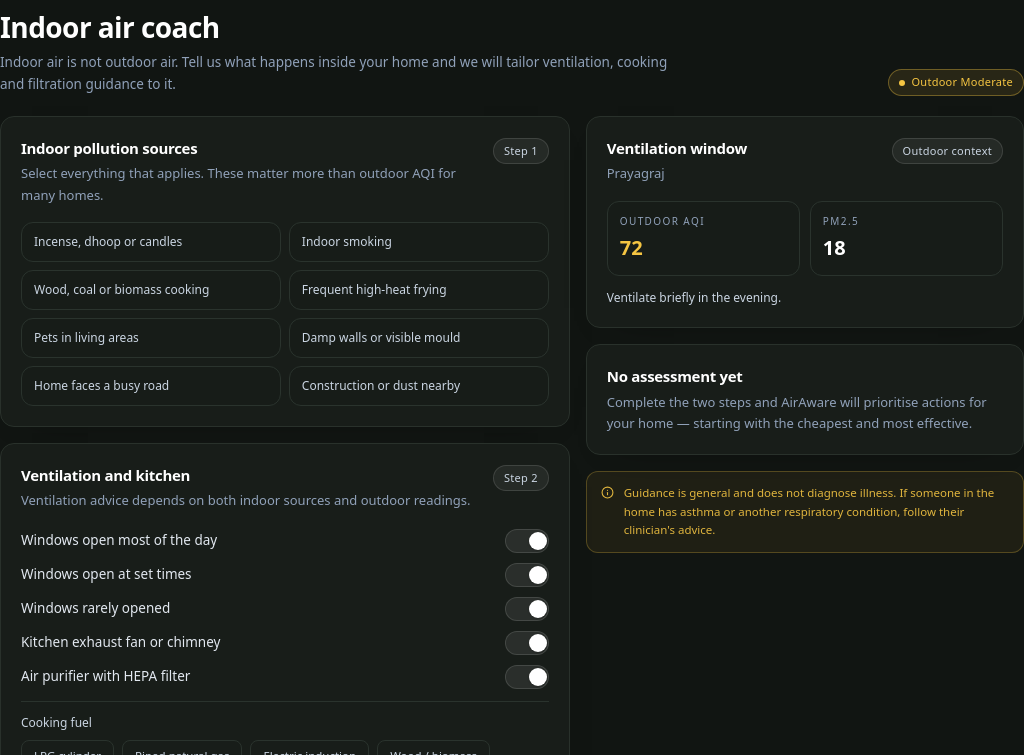
Test: IndoorAir interactions › builds an indoor plan from selected sources, ventilation and cooking fuel
Expected: the text "Outdoor Moderate" is shown, [888,70,1023,96]
What coordinates should you click on to do the following:
click the button "Incense, dhoop or candles"
I would click on:
 (151, 242)
Its box is [21,222,281,262].
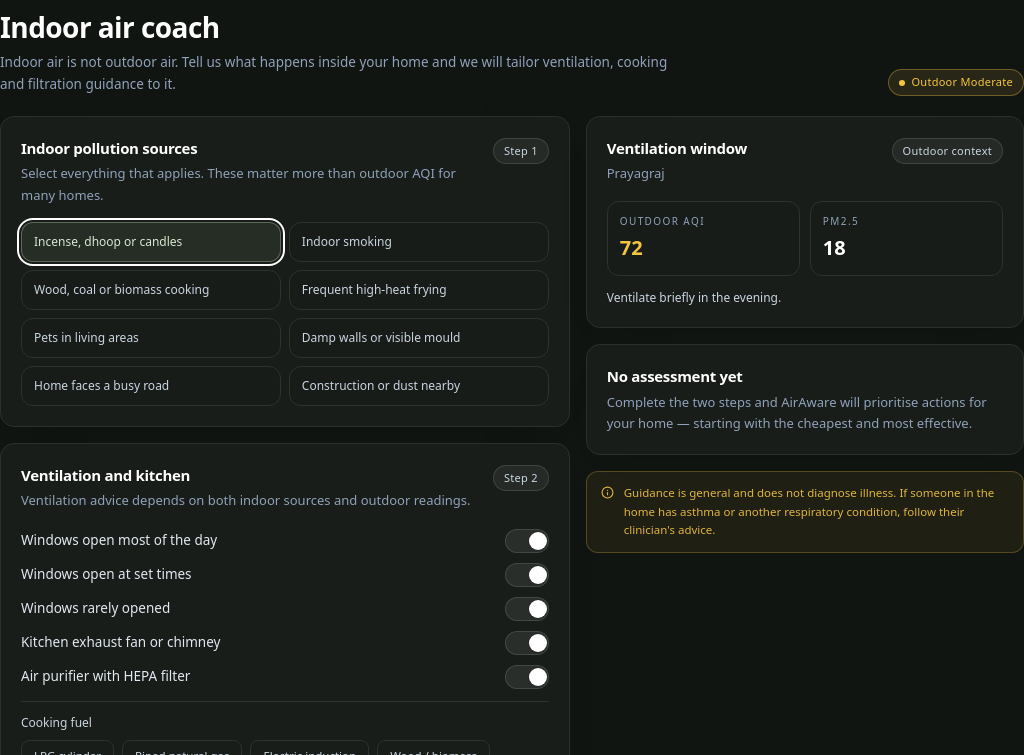
What coordinates should you click on to do the following:
click the switch named "Windows open most of the day" in the row of "Windows open most of the day"
I would click on:
 (527, 541)
Its box is [505,529,549,553].
(page scrolled)
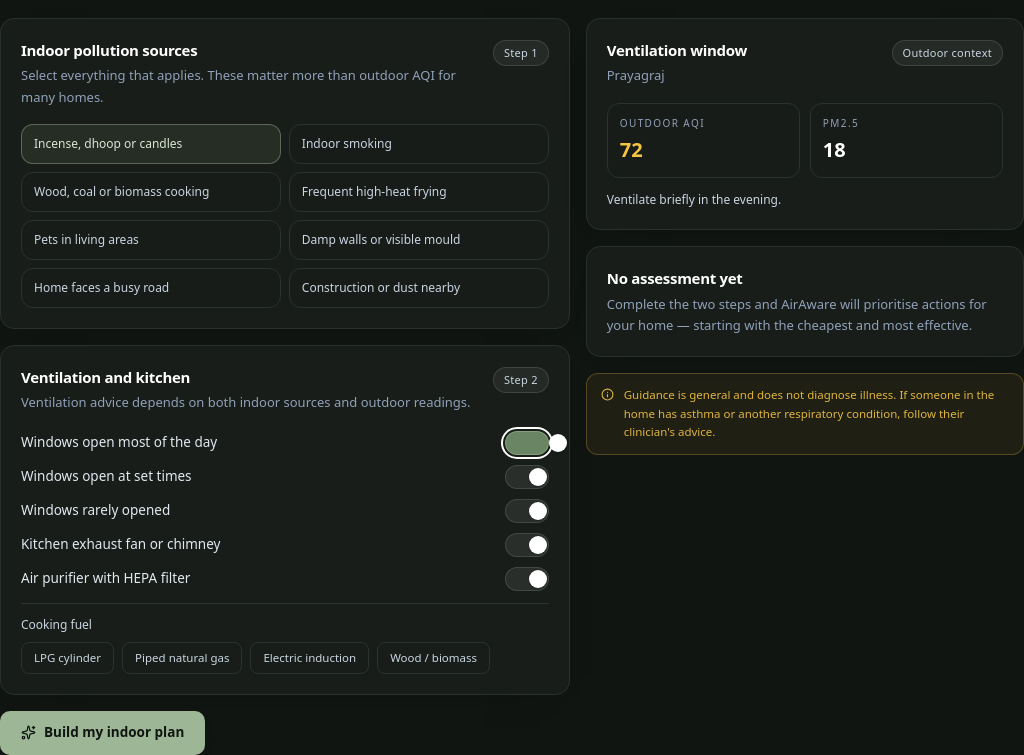
Now the switch named "Windows open most of the day" in the row of "Windows open most of the day" is checked, box [505,431,549,455]
What coordinates should you click on to do the following:
click the button "LPG cylinder"
I would click on:
 (68, 658)
Its box is [21,642,114,674].
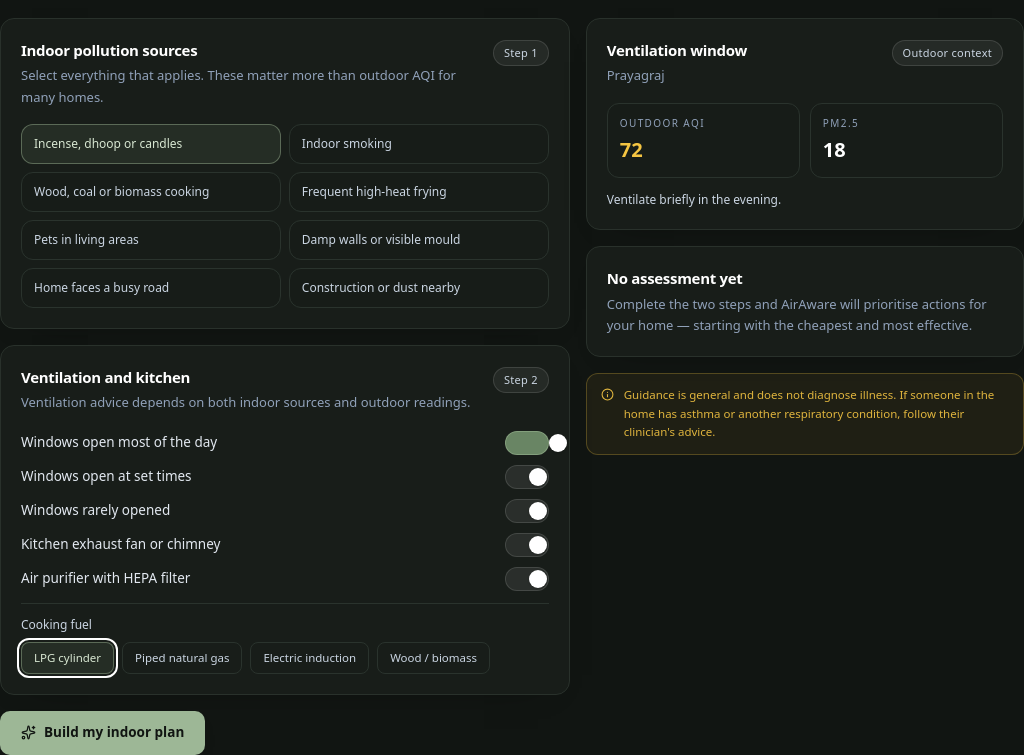
What coordinates should you click on to do the following:
click the button "Build my indoor plan"
I would click on:
 (103, 733)
Its box is [0,711,205,754].
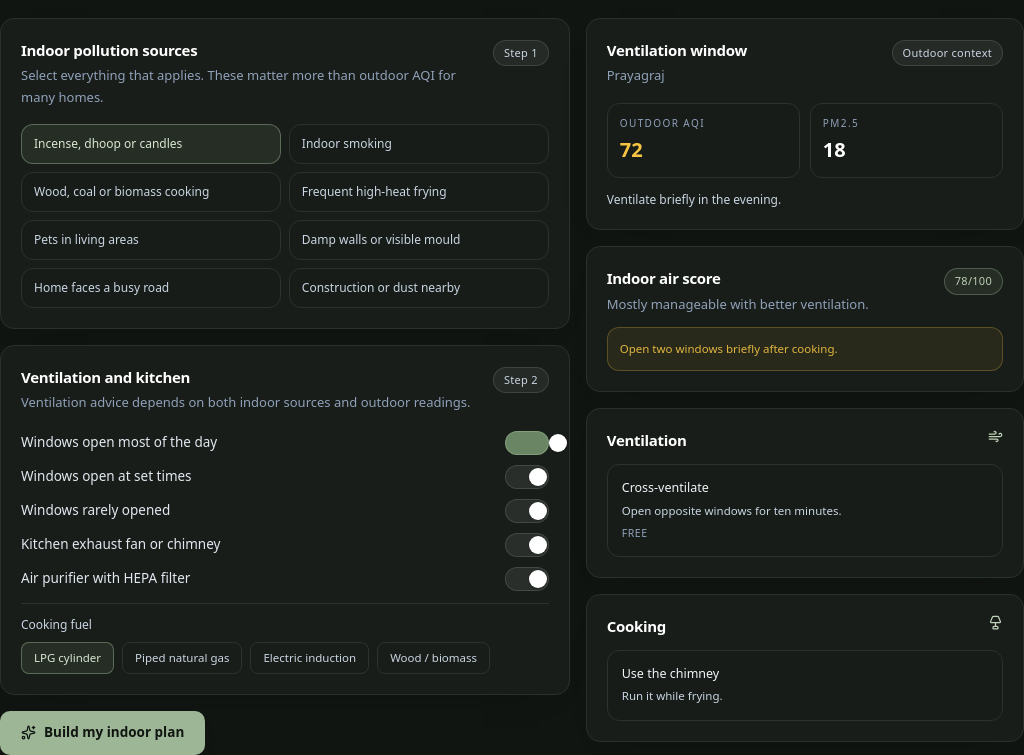
Now the heading "Indoor air score" is shown, box [607,268,720,288]
Now the text "78/100" is shown, box [944,268,1003,295]
Now the message reads "Open two windows briefly after cooking.", box [620,341,838,356]
